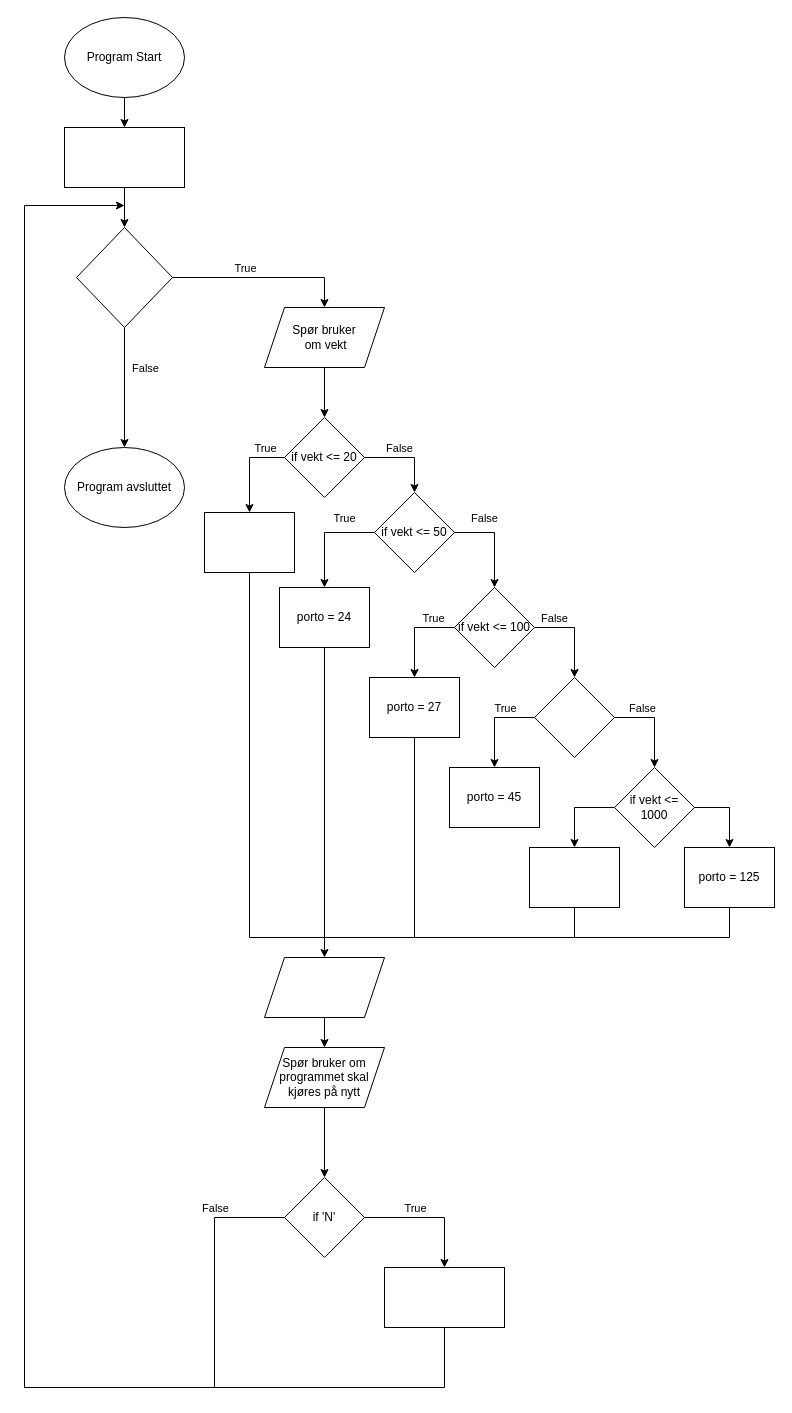
This 792x1413 diagram has some shape labels left out. Here are the shapes that lost their labels. From the top down, the centre of each, then its label:
At point 124,157: "fortsette = True".
At point 124,277: "while fortsette".
At point 249,542: "porto = 17".
At point 574,717: "if vekt <= 350".
At point 574,877: "porto = 88".
At point 324,987: "Skriver ut hva porto for pakken blir".
At point 444,1297: "fortsette = False".
